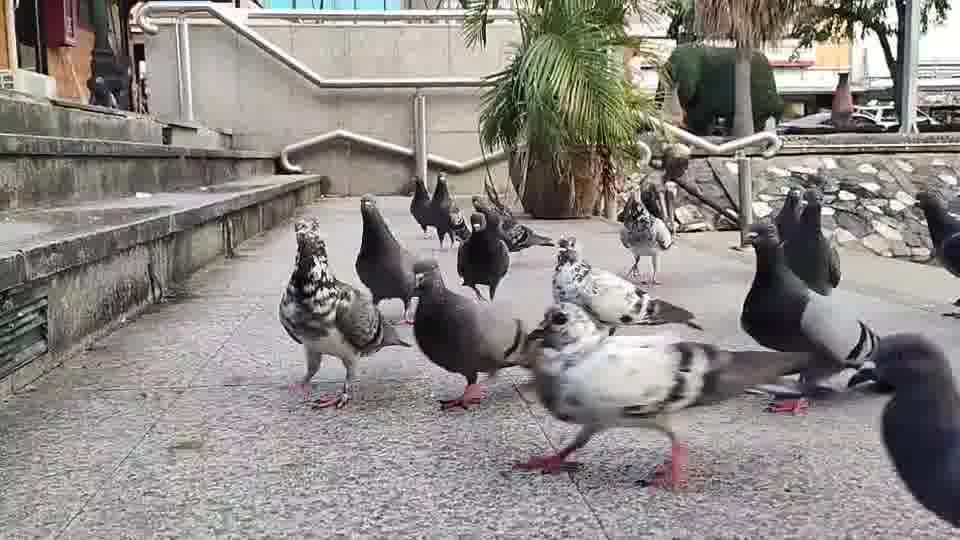Pigeon: (510, 301, 810, 490), (738, 221, 881, 414), (277, 215, 412, 410), (847, 330, 959, 528), (408, 258, 528, 412), (550, 233, 704, 333), (353, 193, 441, 325), (772, 186, 841, 296), (912, 189, 959, 317), (615, 191, 673, 286), (455, 208, 510, 303), (471, 192, 555, 253), (408, 171, 470, 249)
